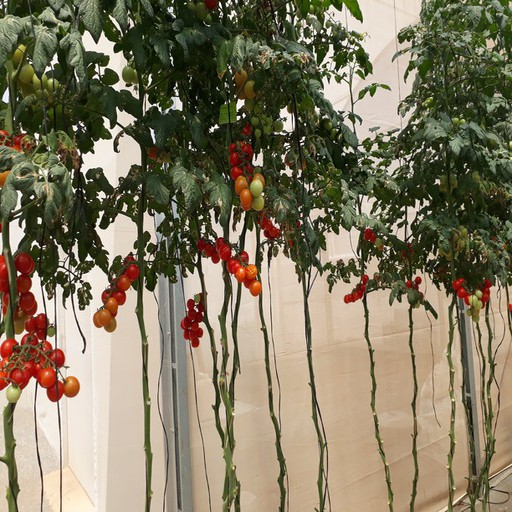green tomato bunch: (9, 46, 57, 107), (241, 99, 283, 140), (439, 224, 467, 261), (122, 63, 149, 83), (438, 172, 457, 197), (448, 114, 468, 128), (421, 95, 433, 108)
mixed tomato bunch: (454, 278, 489, 320)
red tomato bunch: (1, 333, 81, 402), (94, 257, 139, 333), (216, 234, 260, 294), (1, 253, 39, 322), (227, 141, 266, 208), (182, 291, 206, 347), (194, 237, 224, 263), (345, 274, 369, 303), (255, 216, 281, 242), (364, 228, 378, 247)
